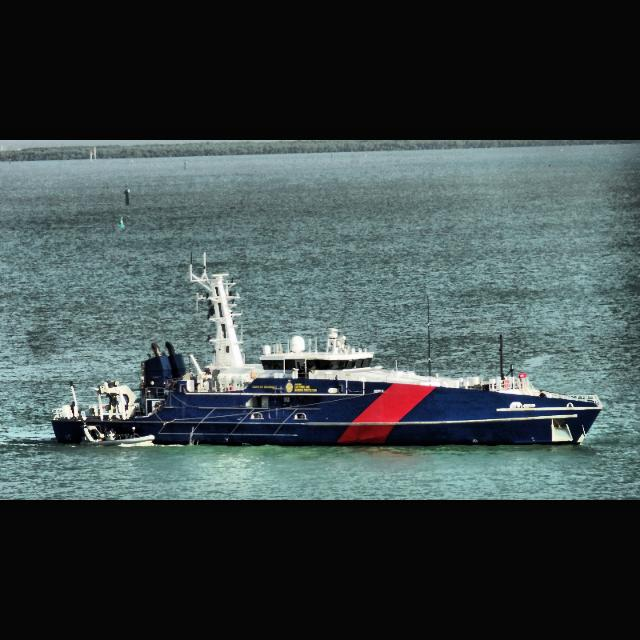patrol_vessel: (49, 329, 606, 451)
